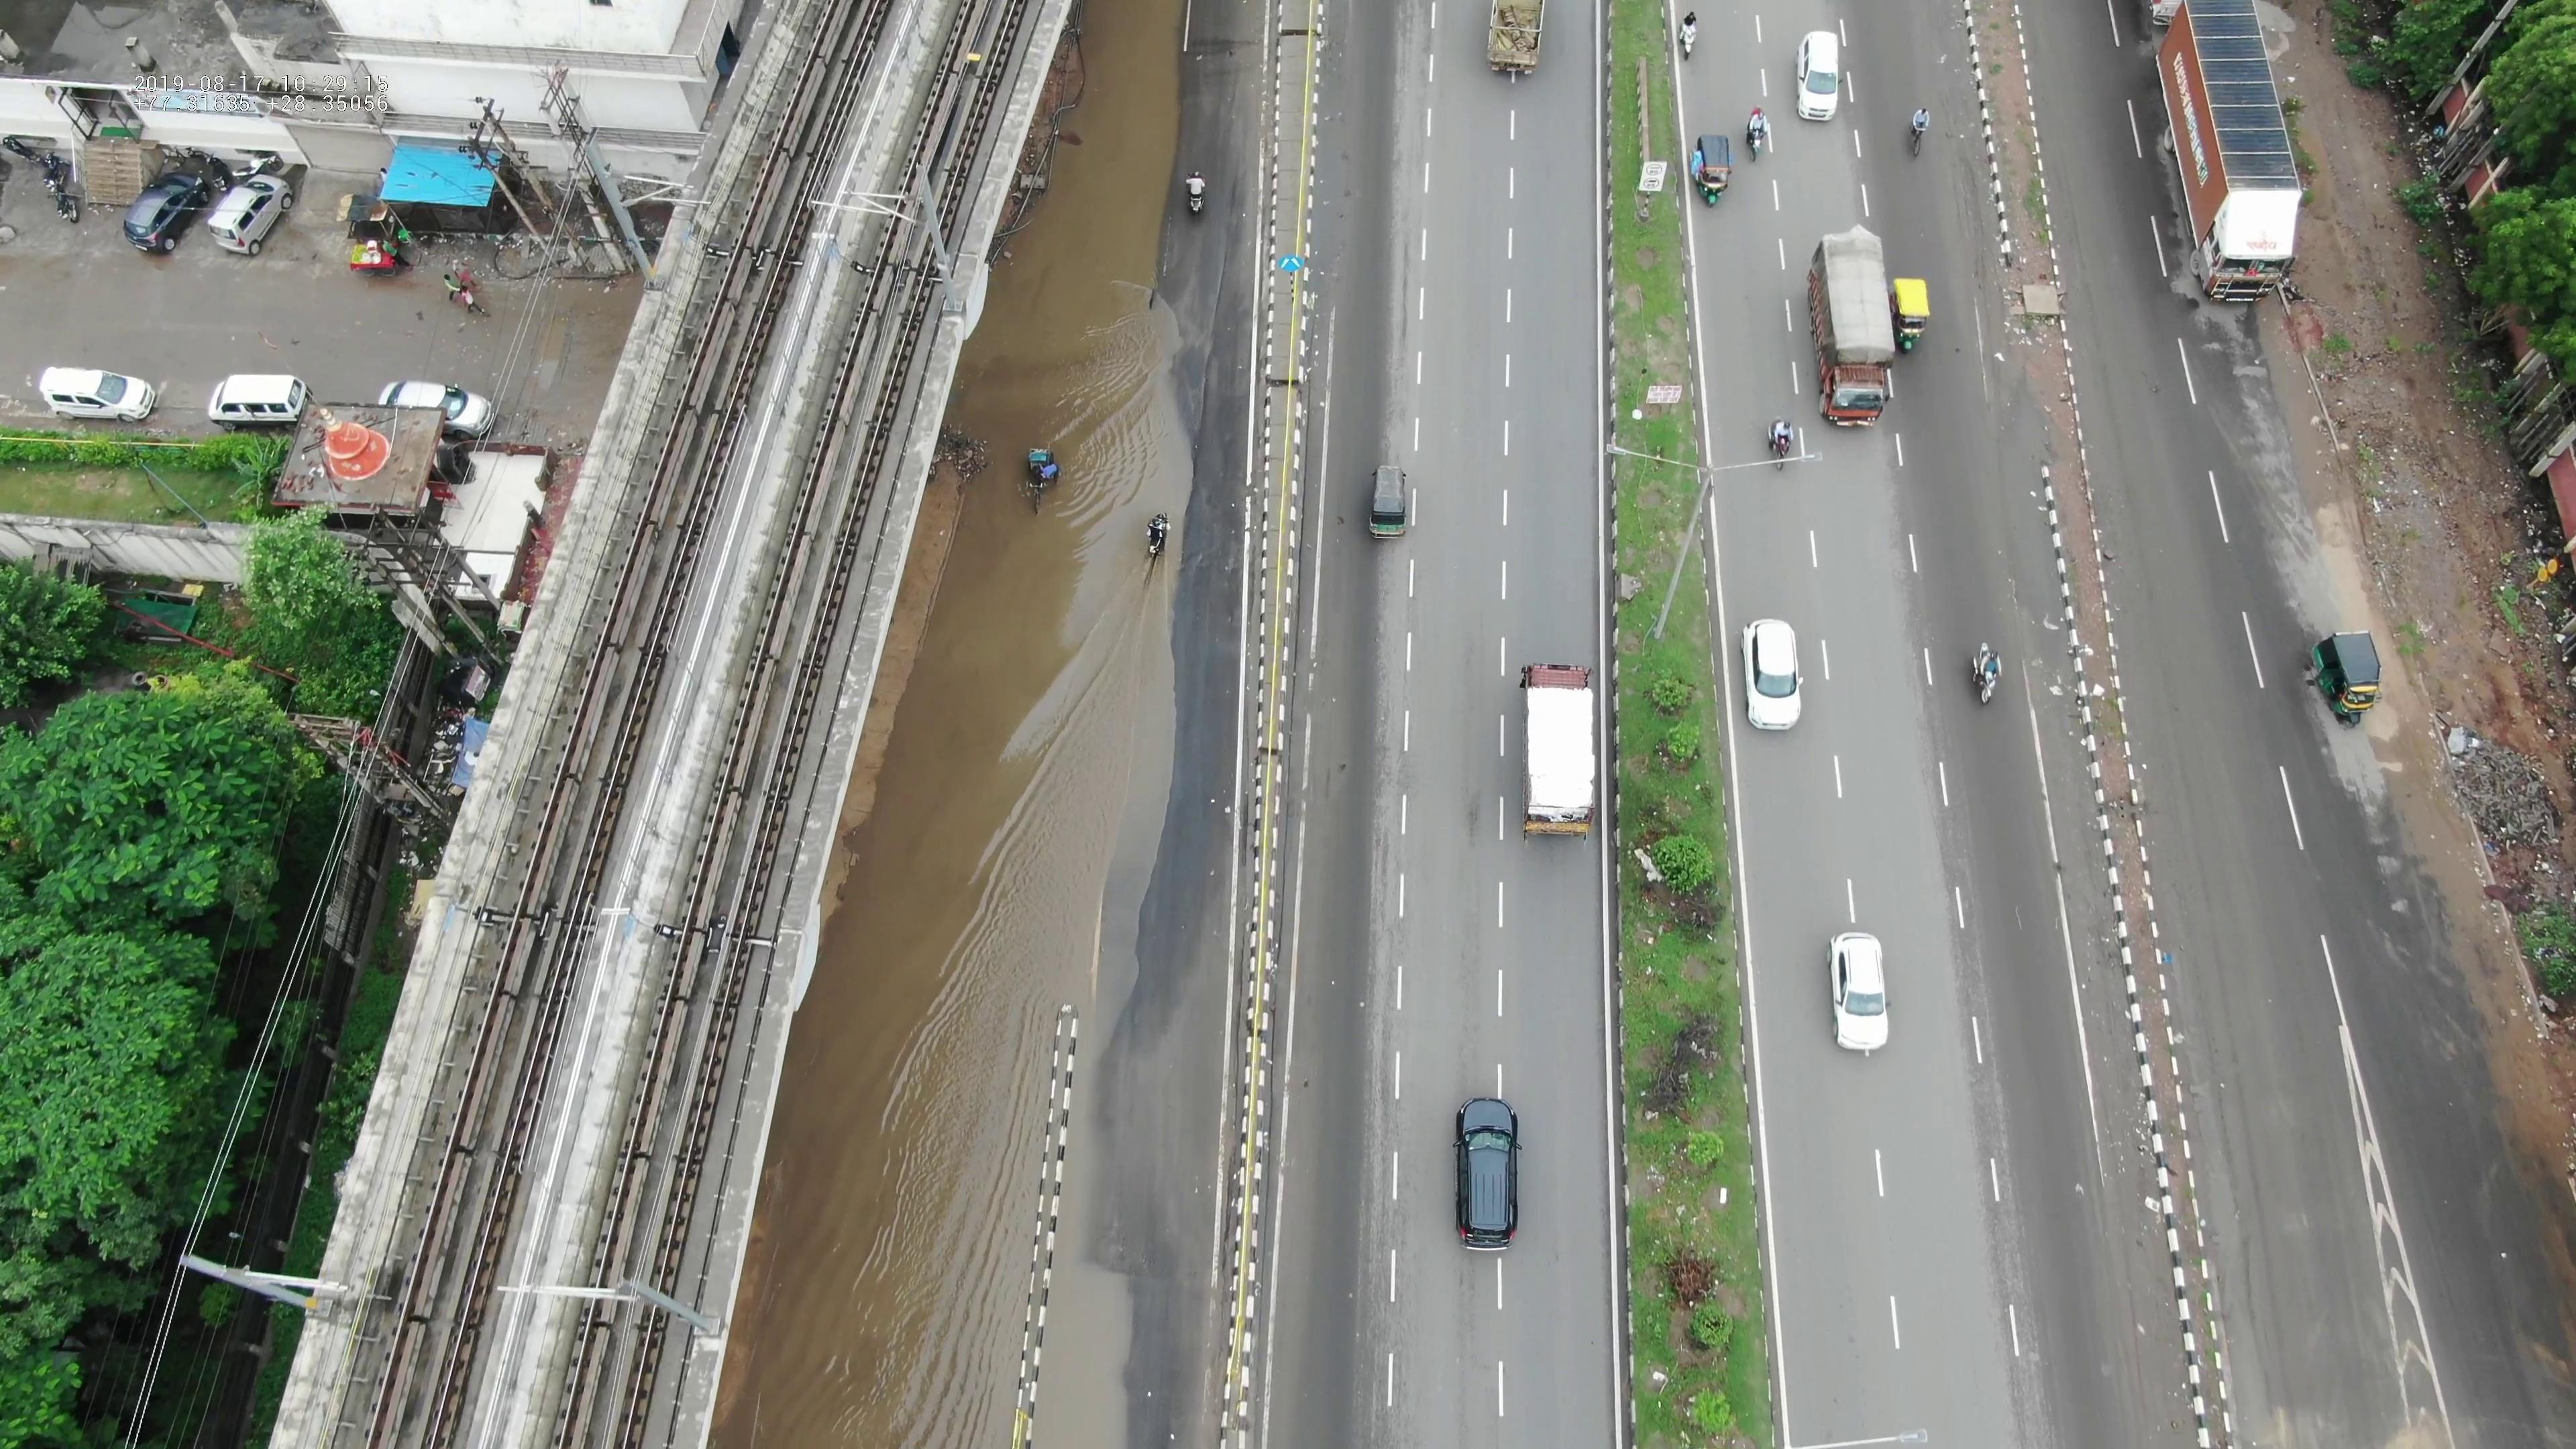Waterlogging: (711, 906, 1141, 1440), (855, 334, 1161, 892), (957, 4, 1171, 315)
